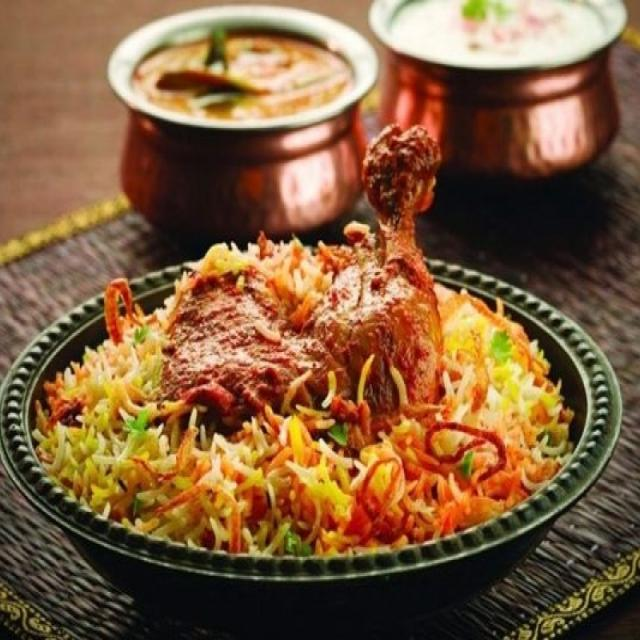Biryani: (18, 215, 582, 568)
